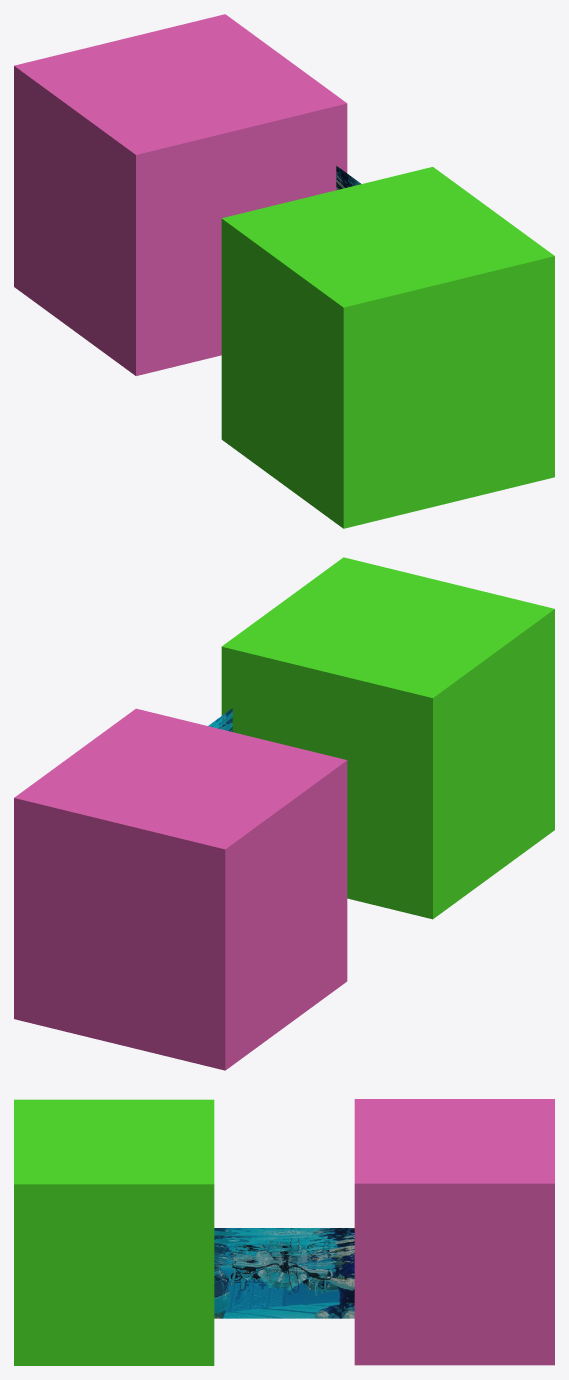
3 renders of one model, top to bottom at view 1: azimuth 30°, elevation 25°; view 2: azimuth 150°, elevation 25°; view 3: azimuth 270°, elevation 25°, orthographic. The views are drawn at different scales.
Visible parts, largest first — view 1: Cube, Cube.001; view 2: Cube.001, Cube; view 3: Cube.001, Cube, robosub.
Boxes of the visible parts, x1,y1,x2,y2 form: Cube: (221,167,554,528); Cube.001: (14,14,347,375); Cube.001: (14,708,347,1070); Cube: (221,557,554,919); Cube.001: (354,1099,554,1365); Cube: (14,1099,214,1365); robosub: (214,1228,354,1318).
Bounding box in the file's own units: 2 × 5.4 × 2.01.
3 materials, 1 textured.
